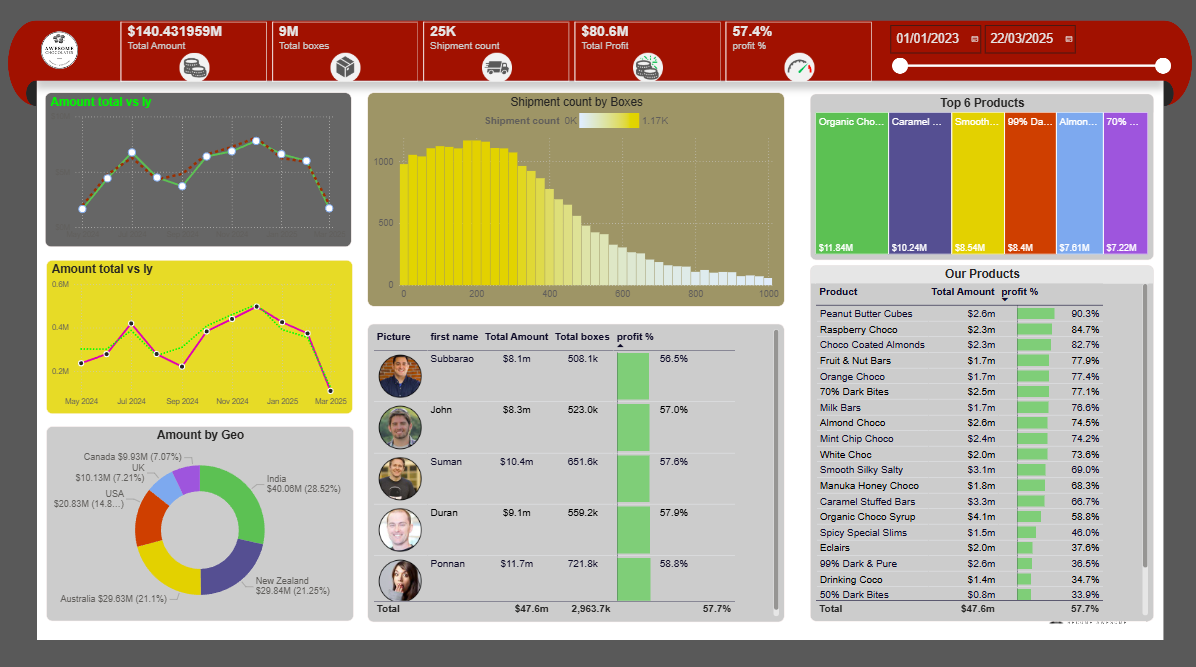

Layout of this report page (visuals, bound fields, positions):
{"tool":"powerbi","page":{"name":"BI REPORT","canvas":[1920,1080],"ordinal":7},"visuals":[{"type":"lineChart","title":"Amount total vs ly","fields":{"Y":["shipments.Total Amount","shipments.Total Amount(last year)"],"Category":["calendar.Start of Month"]},"box":[72.5,147.5,490,247.5],"z":0},{"type":"lineChart","title":"Amount total vs ly","fields":{"Category":["calendar.Start of Month"],"Y":["shipments.Total boxes","shipments.Total boxes(last year)"]},"box":[73.3,416.7,490,246.7],"z":1000},{"type":"donutChart","title":"Amount by Geo","fields":{"Category":["locations.Geo"],"Y":["shipments.Total Amount"]},"box":[74,682,492,312],"z":2000},{"type":"clusteredColumnChart","title":"Shipment count by Boxes ","fields":{"Y":["shipments.Shipment count"],"Category":["shipments.Boxes (bins)"]},"box":[587.5,147.5,667.5,342.5],"z":3000},{"type":"tableEx","fields":{"Values":["people.Picture","people.first name","shipments.Total Amount","shipments.Total boxes","shipments.profit %"]},"box":[587.5,517.5,667.5,477.5],"z":3001},{"type":"treemap","title":"Top 6 Products","fields":{"Values":["shipments.Total Amount"],"Group":["products.Product"]},"box":[1296,150,550,266],"z":3003},{"type":"tableEx","title":"Our Products","fields":{"Values":["products.Product","shipments.Total Amount","shipments.profit %"]},"box":[1296,424,550,570],"z":3004},{"type":"cardVisual","fields":{"Data":["shipments.Total Amount","shipments.Total boxes","shipments.Shipment count","shipments.Total Profit","shipments.profit %"]},"box":[175,17.5,1237.5,130],"z":3005},{"type":"slicer","fields":{"Values":["calendar.cal_date"]},"box":[1412.5,30,475,105],"z":3006}]}

Visuals, with their boxes in screenshot pixels (x1, y1, x2, y2), scaled from the page's 1920x1080 canvas onto the 1196x667 screenshot:
"Amount total vs ly" lineChart: l=45, t=91, r=350, b=244
"Amount total vs ly" lineChart: l=46, t=257, r=351, b=410
"Amount by Geo" donutChart: l=46, t=421, r=353, b=614
"Shipment count by Boxes " clusteredColumnChart: l=366, t=91, r=782, b=303
tableEx - people.Picture x people.first name: l=366, t=320, r=782, b=615
"Top 6 Products" treemap: l=807, t=93, r=1150, b=257
"Our Products" tableEx: l=807, t=262, r=1150, b=614
cardVisual - shipments.Total Amount x shipments.Total boxes: l=109, t=11, r=880, b=91
slicer - calendar.cal_date: l=880, t=19, r=1176, b=83
